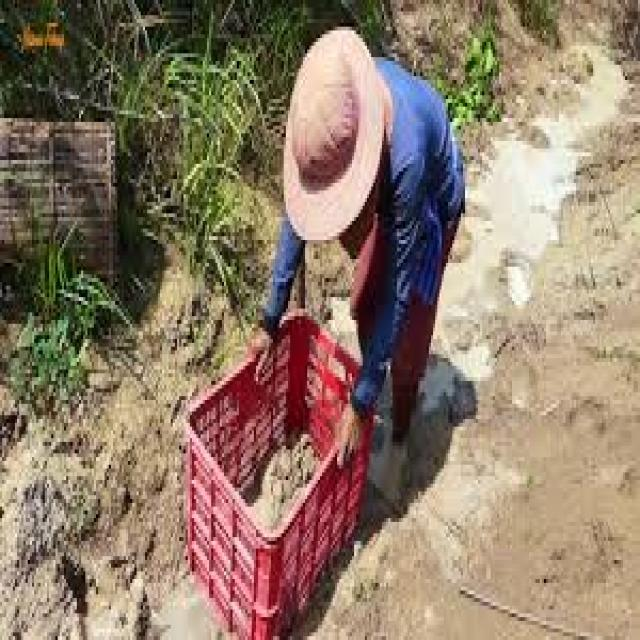basket: (188, 312, 373, 640)
